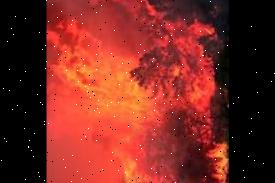fire: (46, 0, 229, 183)
